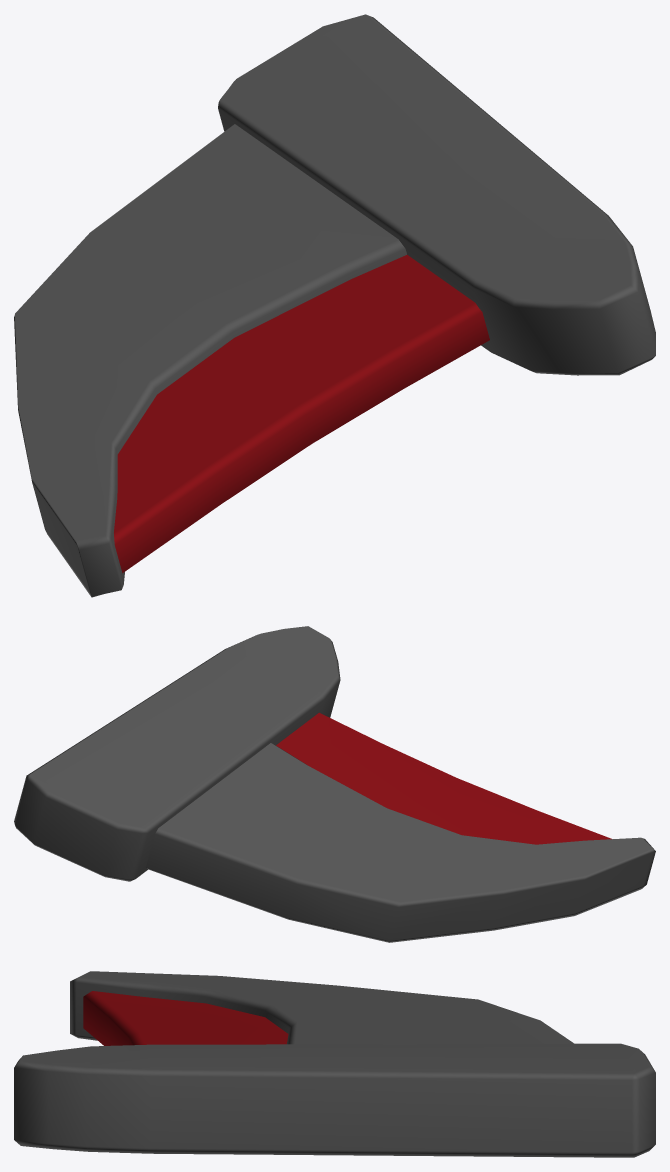
Rendered from Ship_enemy_08_Wing_R.fbx.
The picture shows the model from 3 angles, top to bottom: view 1: azimuth 30°, elevation 25°; view 2: azimuth 150°, elevation 25°; view 3: azimuth 270°, elevation 25°; orthographic projection. The views are drawn at different scales.
Parts seen in each view (by area): view 1: Ship_enemy_08_Wing_R; view 2: Ship_enemy_08_Wing_R; view 3: Ship_enemy_08_Wing_R.
Boxes of the visible parts, box(x1,y1,x2,y2) form: Ship_enemy_08_Wing_R: box(14, 14, 655, 597); Ship_enemy_08_Wing_R: box(14, 626, 655, 942); Ship_enemy_08_Wing_R: box(14, 971, 655, 1157).
Bounding box in the file's own units: 168 × 62.46 × 165.
